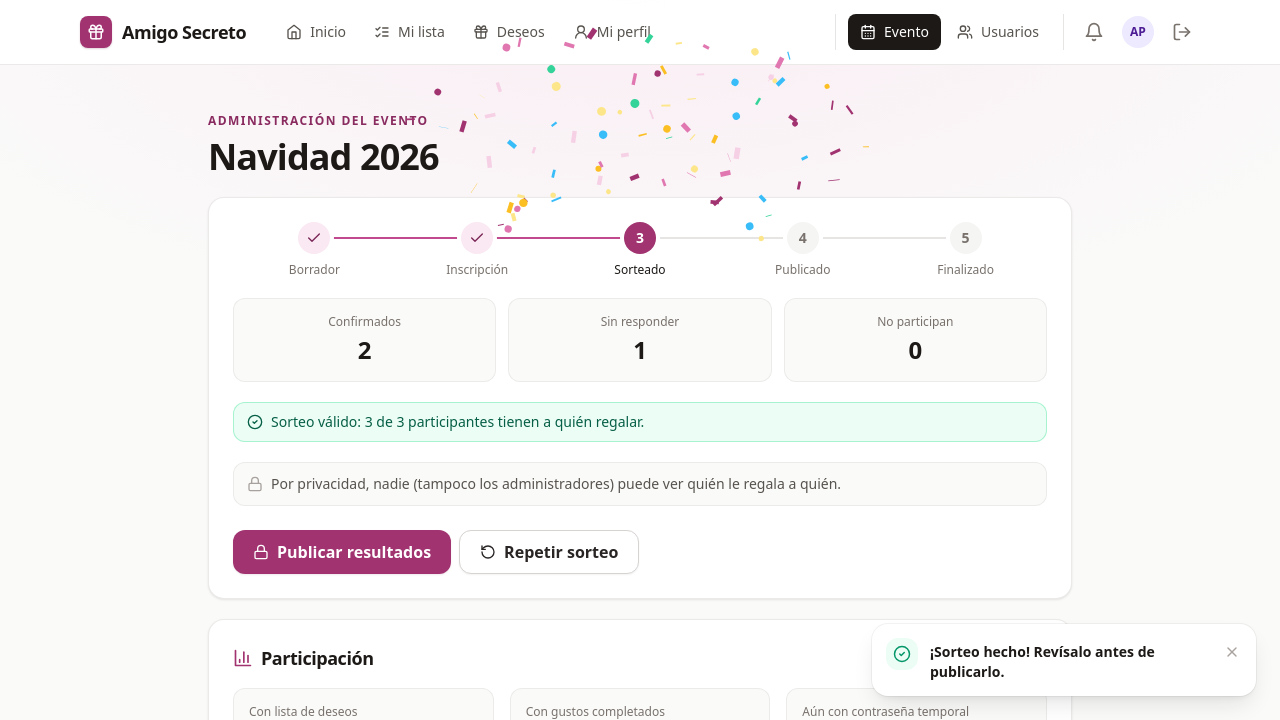
Test case: AdminEventPage › cancelar la confirmación no ejecuta nada
This screenshot has width=1280, height=720.
Click the button "Publicar resultados". click: click(342, 552)
box: [233,530,451,574]
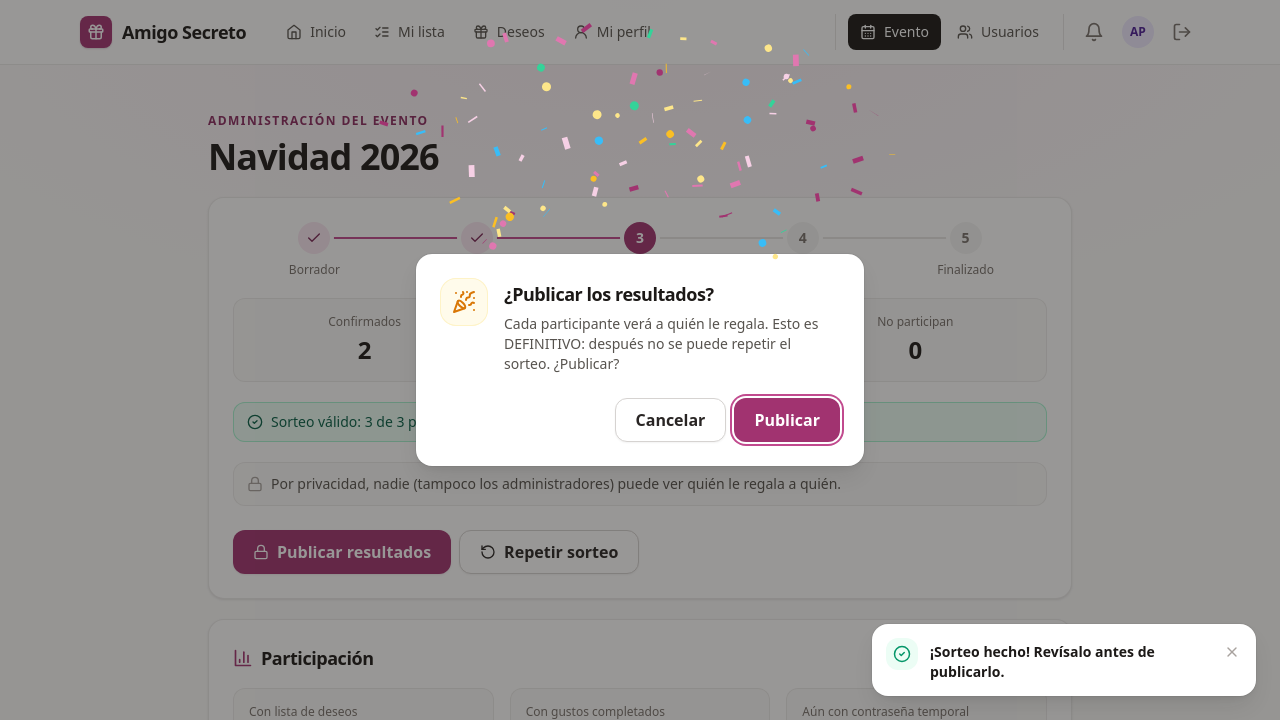
Click the button "Cancelar". click: click(670, 420)
box: [614,398,726,442]
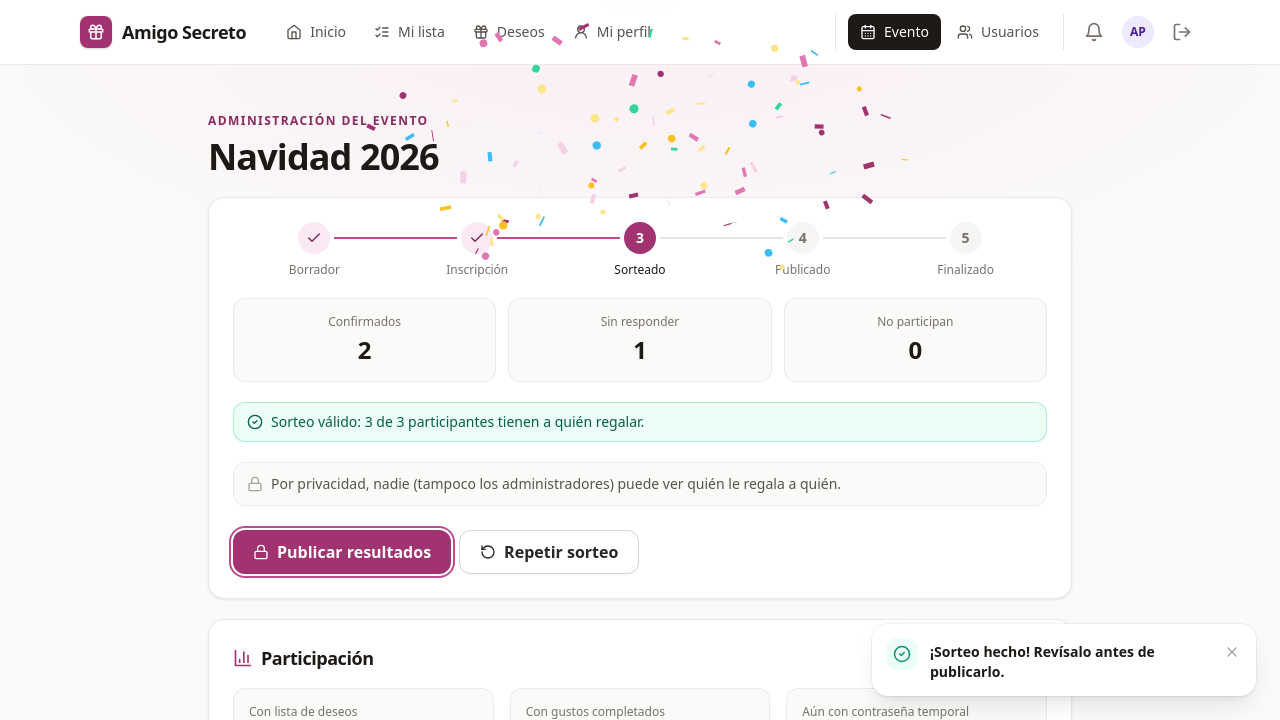
Check: the dialog is gone
